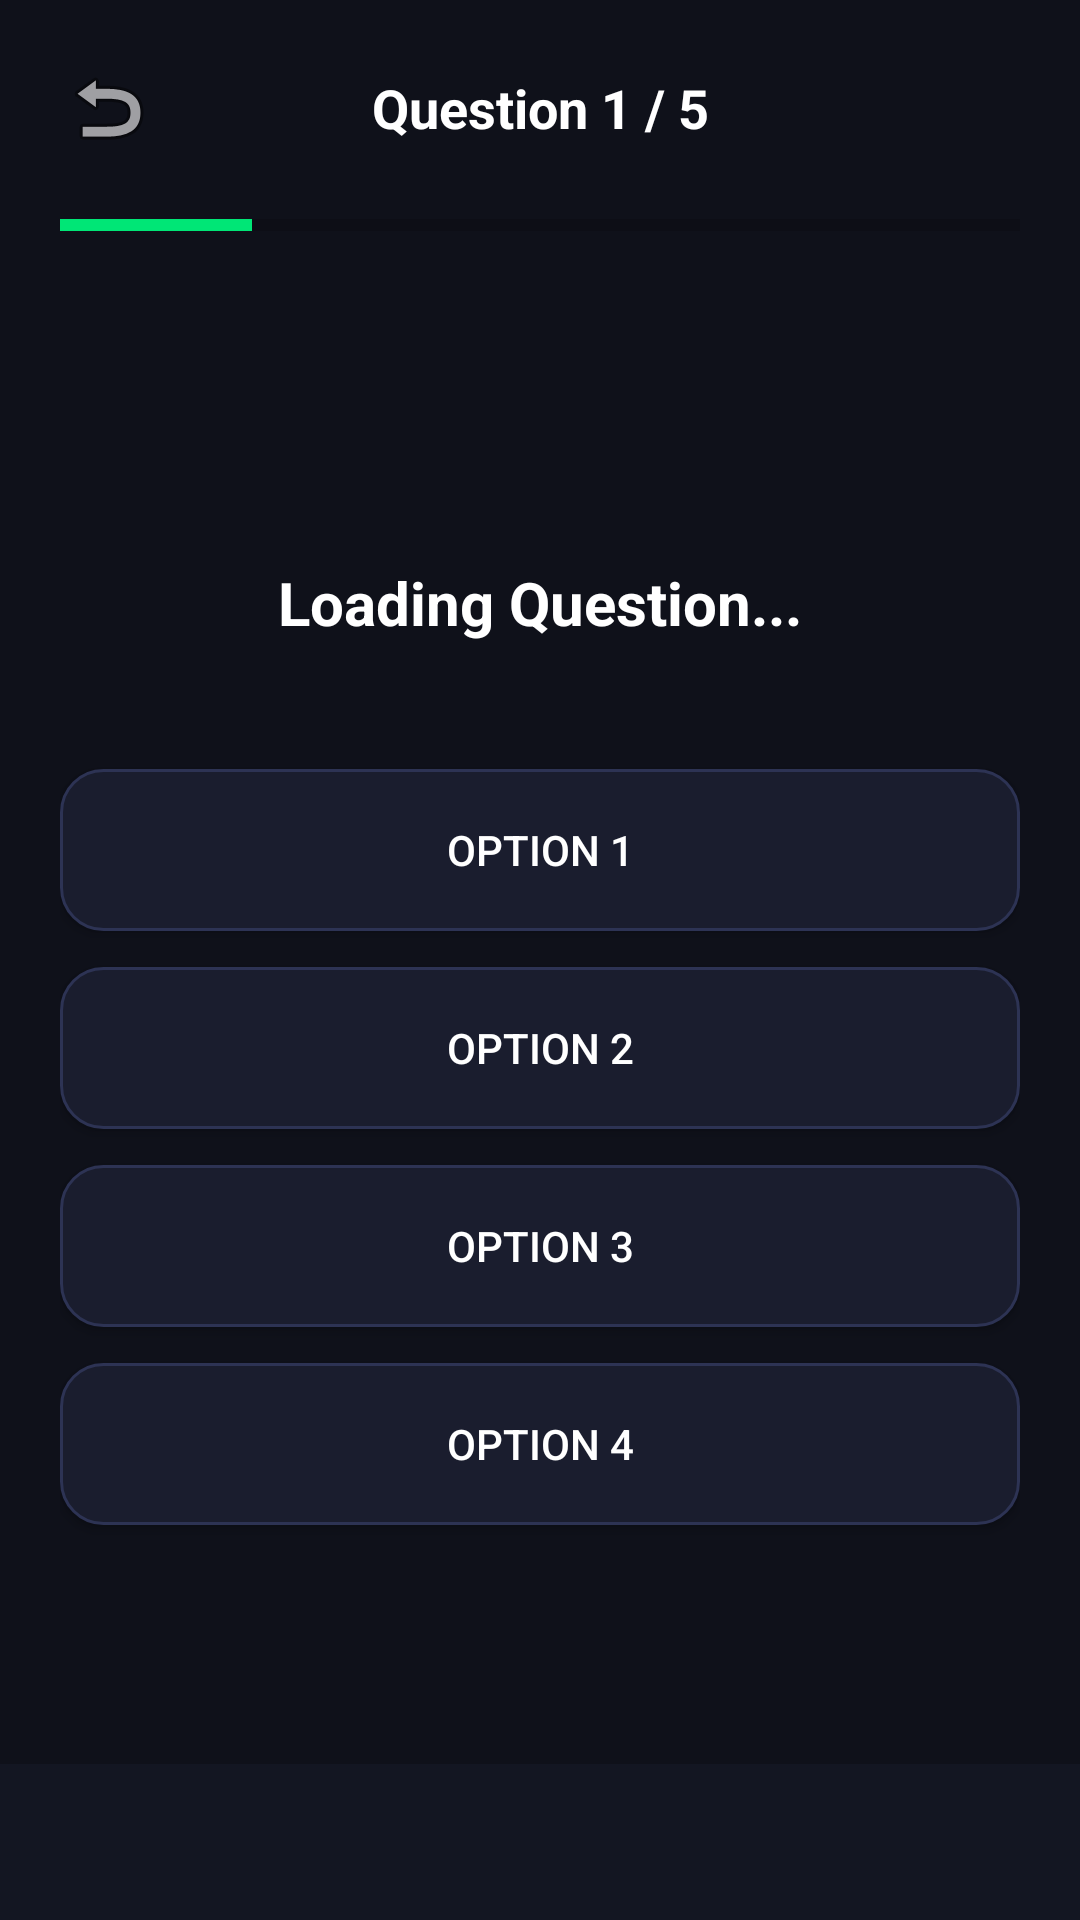

Icons on this 1080 × 1920 Android screen, each with its box as (x1, y1, x2, y2):
Back: (78, 80, 141, 137)
